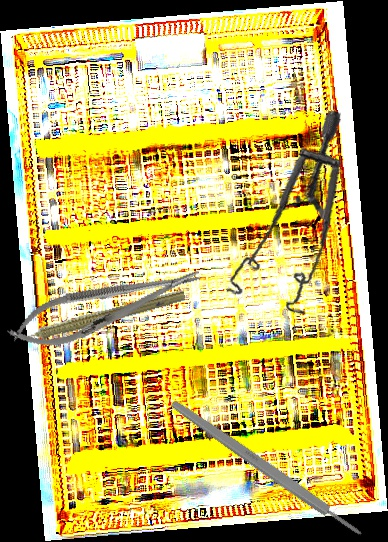Handpiece: (5, 282, 187, 351)
Needle Holder: (3, 252, 208, 361)
Scalpel Handle: (168, 396, 365, 541)
Speculum: (205, 109, 365, 325)
